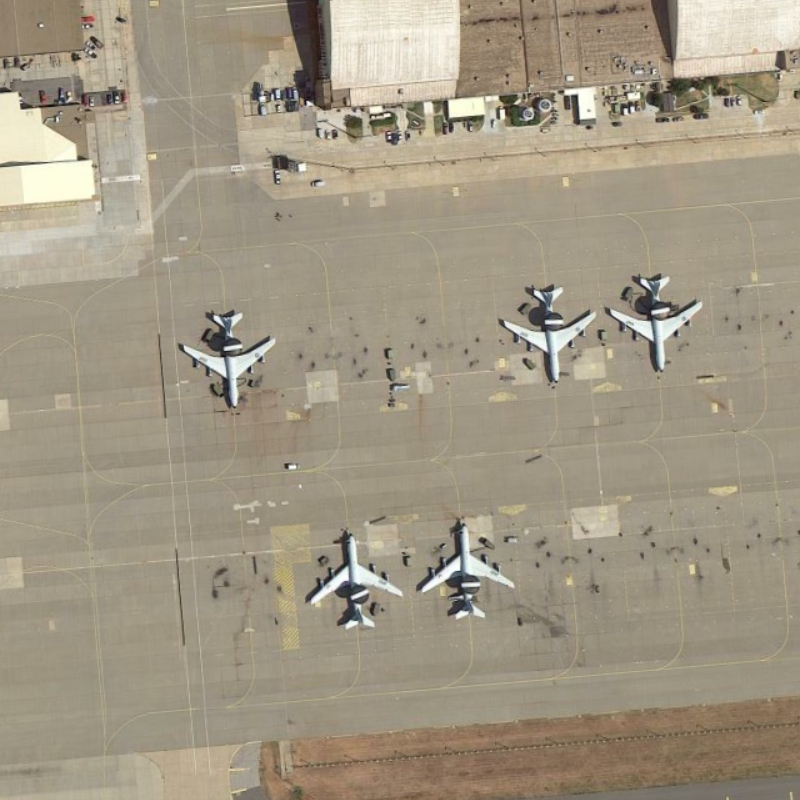A7: (176, 302, 289, 416), (299, 528, 412, 633), (416, 515, 521, 628), (493, 279, 601, 385), (605, 266, 708, 377)
